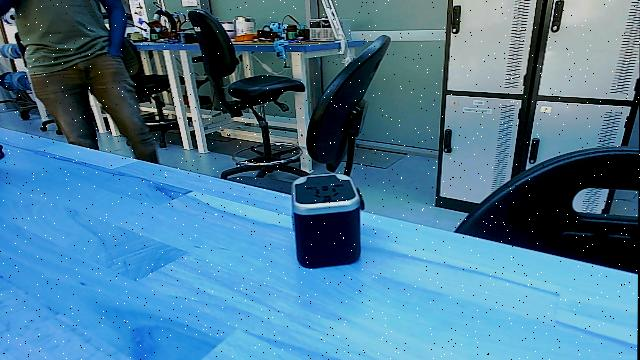adapter: (285, 168, 366, 273)
